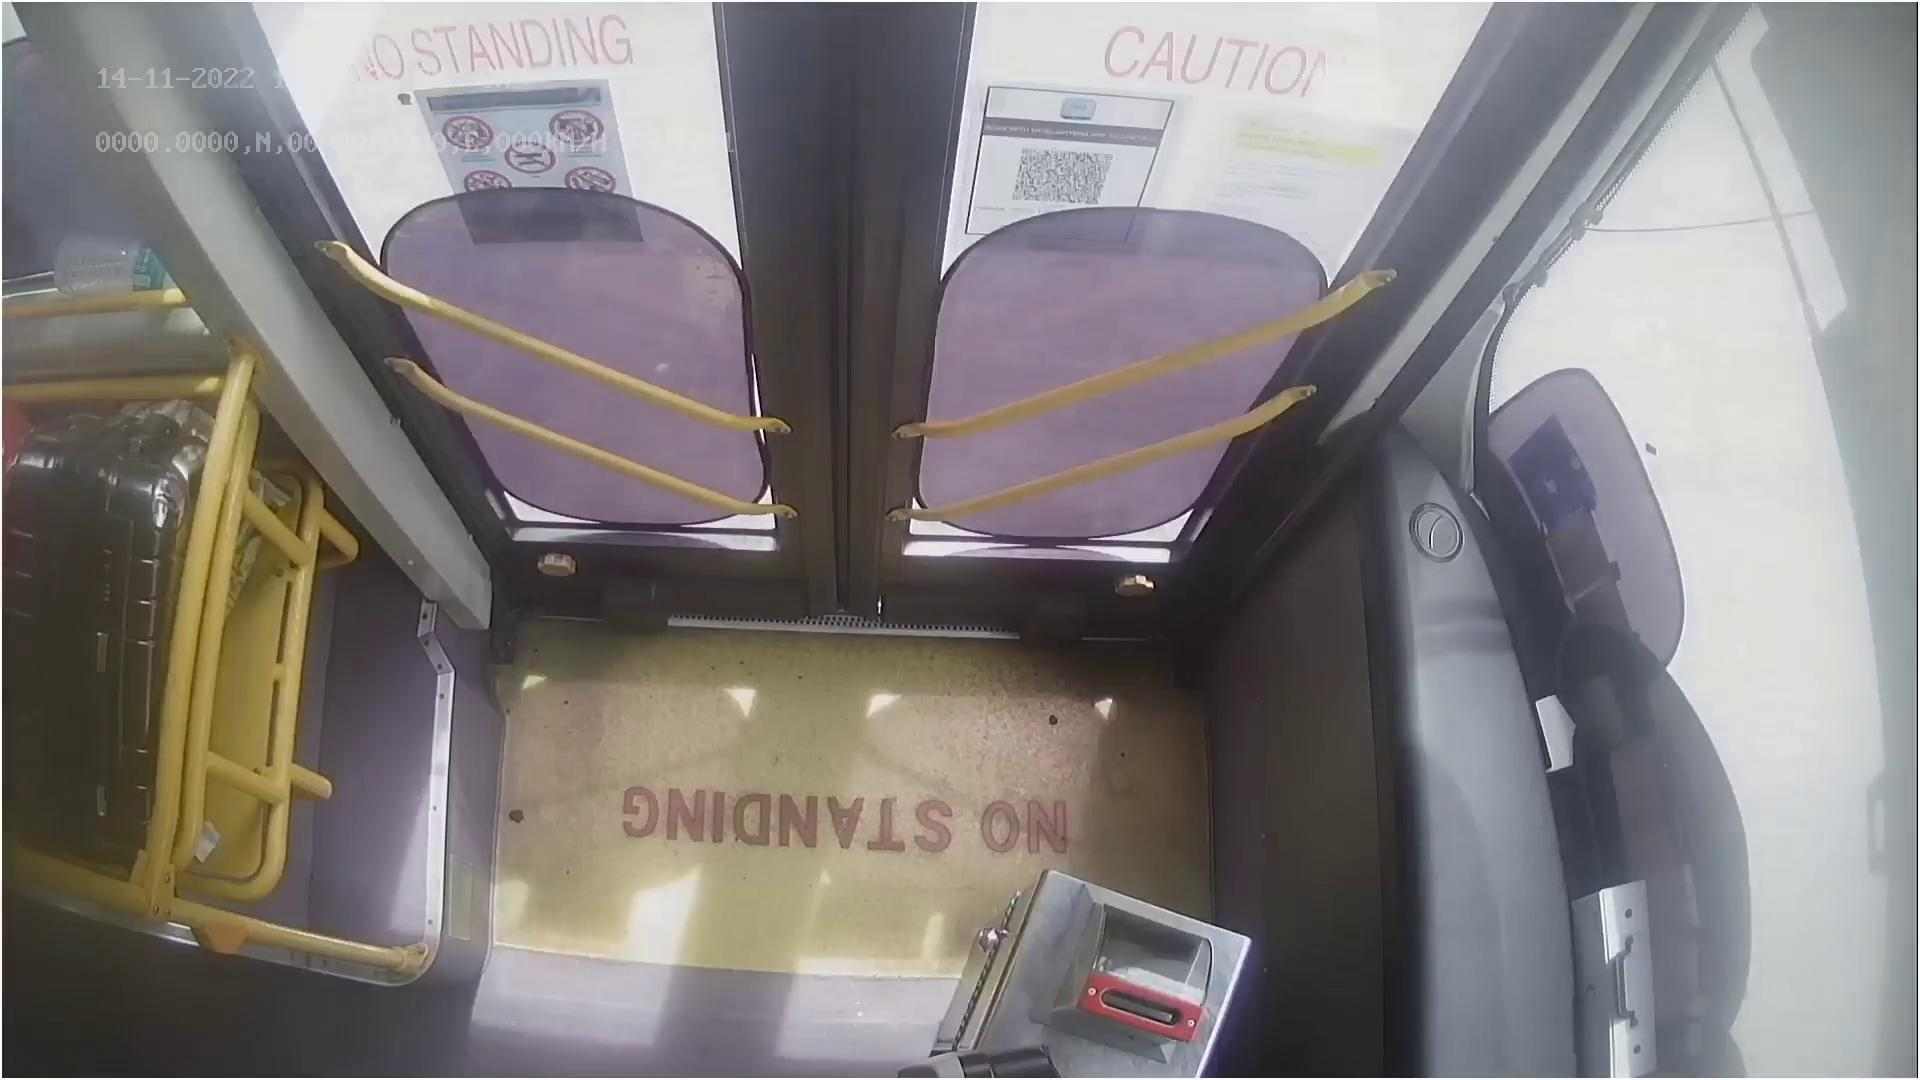close: (284, 0, 1445, 156)
